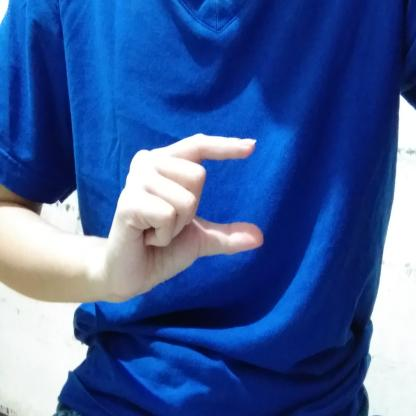small: (105, 127, 269, 310)
